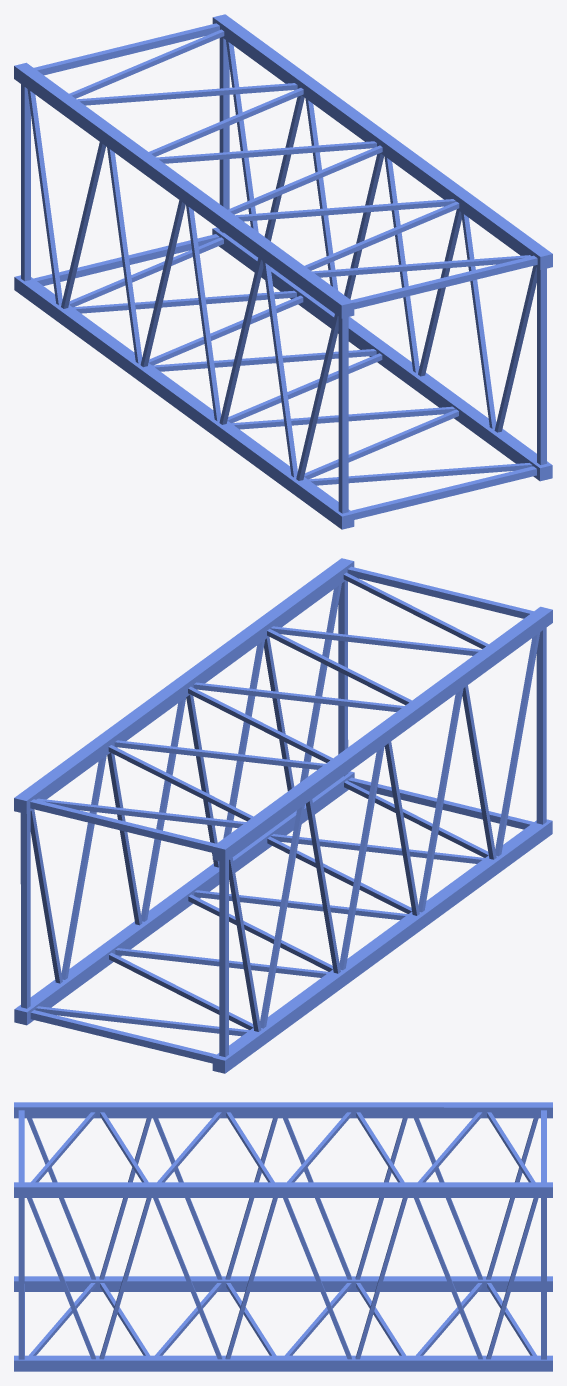
Rendered from swingArmBoom.glb.
The picture shows the model from 3 angles, top to bottom: view 1: azimuth 30°, elevation 25°; view 2: azimuth 150°, elevation 25°; view 3: azimuth 270°, elevation 25°; orthographic projection. The views are drawn at different scales.
Visible parts, largest first — view 1: swingArmBoom; view 2: swingArmBoom; view 3: swingArmBoom.
Boxes of the visible parts, x1,y1,x2,y2 form: swingArmBoom: [14, 14, 552, 529]; swingArmBoom: [14, 558, 552, 1073]; swingArmBoom: [14, 1102, 552, 1371].
Bounding box in the file's own units: 84.17 × 85.4 × 226.
